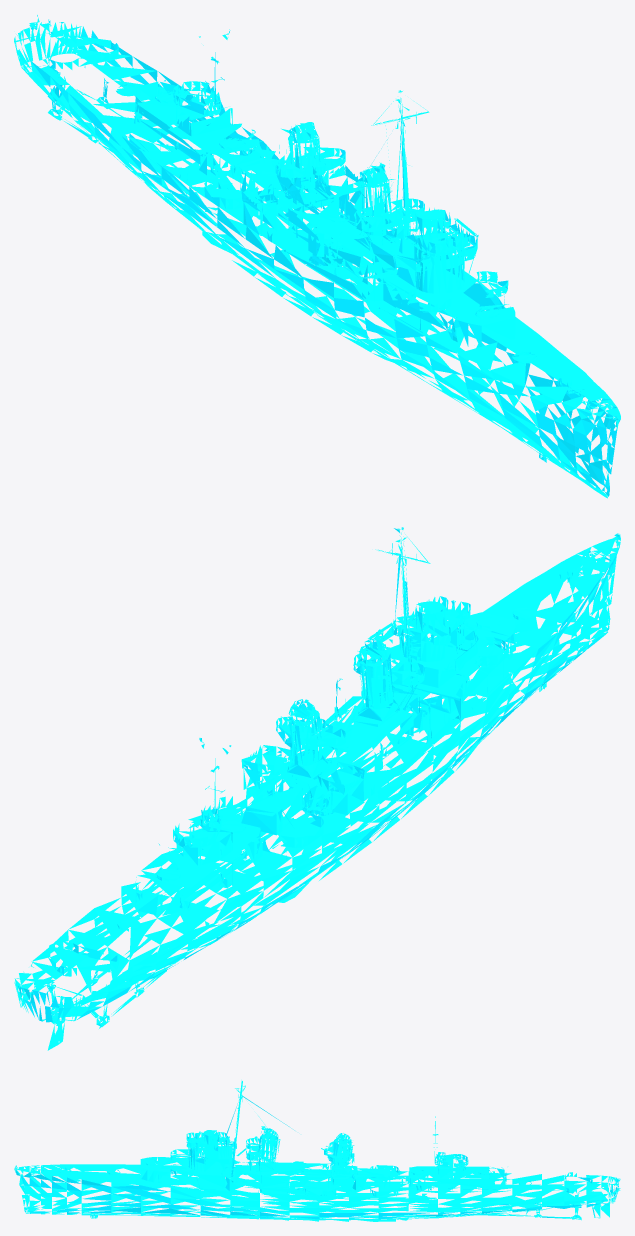
The model's file is Frank_Friday.glb.
3 renders of one model, top to bottom at view 1: azimuth 30°, elevation 25°; view 2: azimuth 150°, elevation 25°; view 3: azimuth 270°, elevation 25°, orthographic. The views are drawn at different scales.
Bounding box in the file's own units: 0.8001 × 1.94 × 7.66.
